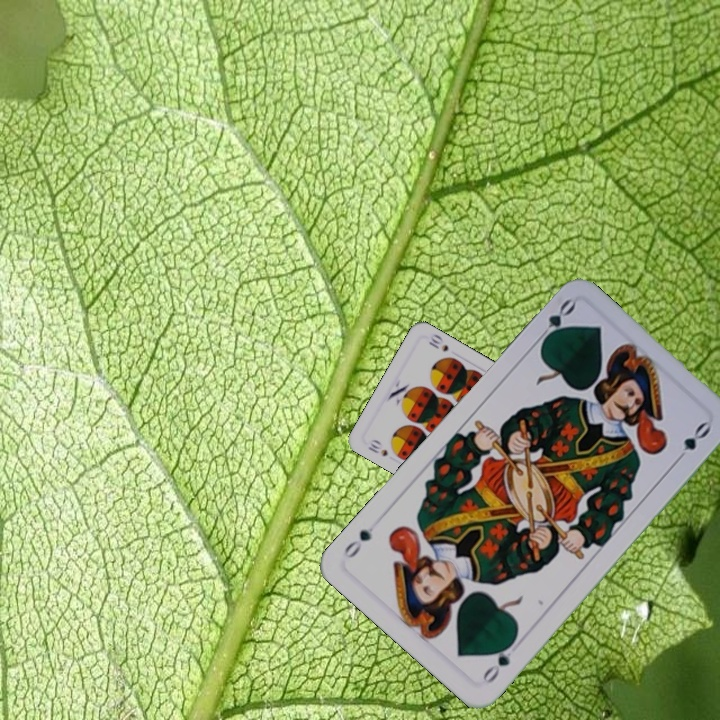GO: (532, 295, 578, 348), (478, 635, 518, 686)
S10: (364, 435, 391, 459)
